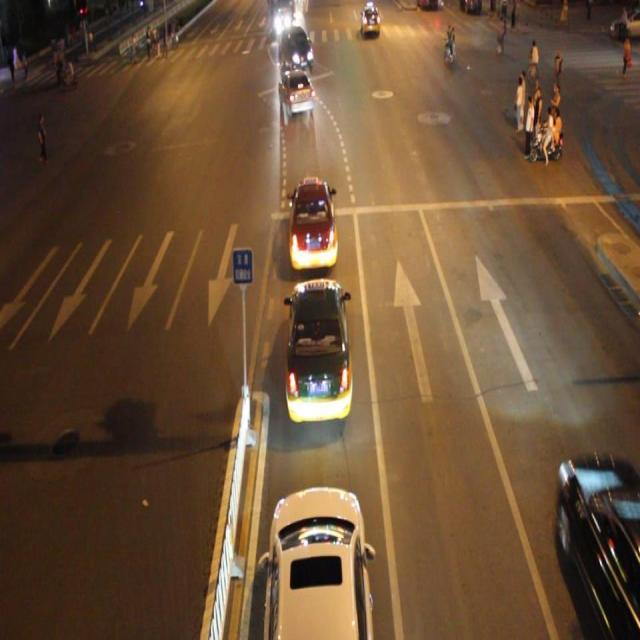car: (259, 479, 375, 640), (558, 460, 640, 640), (282, 274, 354, 422), (288, 180, 338, 267), (278, 67, 314, 113), (280, 23, 313, 68), (360, 1, 381, 38)
